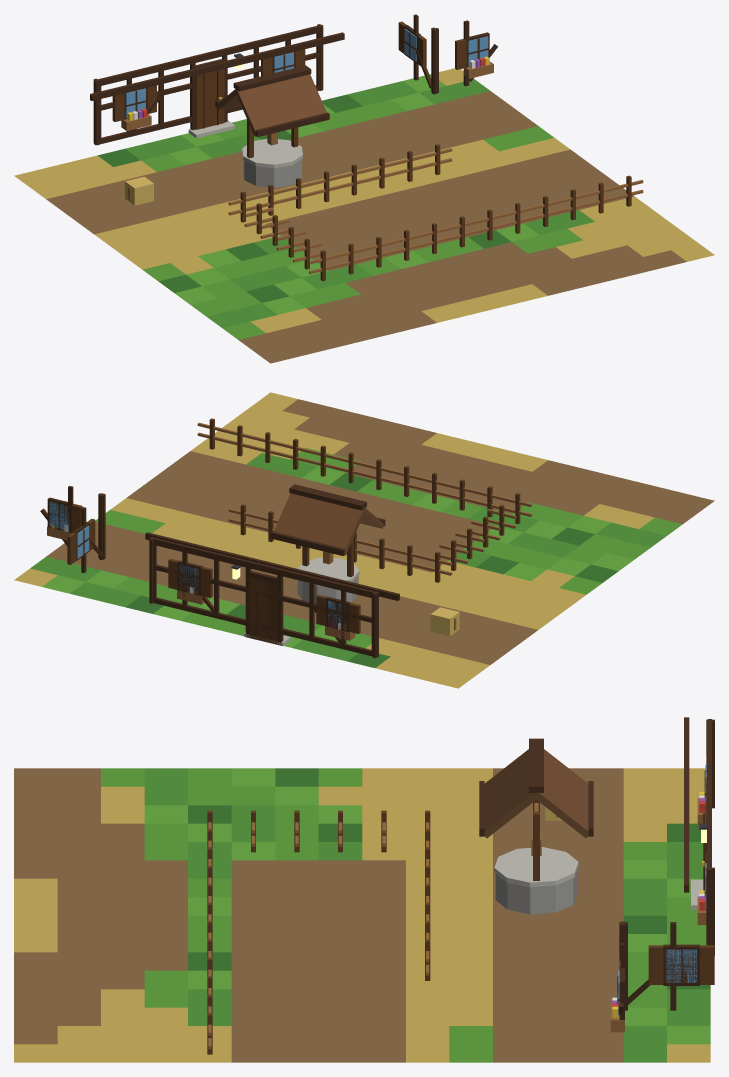
Rendered from chunk_9_10.glb.
3 renders of one model, top to bottom at view 1: azimuth 30°, elevation 25°; view 2: azimuth 150°, elevation 25°; view 3: azimuth 270°, elevation 25°, orthographic. The views are drawn at different scales.
Visible parts, largest first — view 1: chunk_9_10; view 2: chunk_9_10; view 3: chunk_9_10.
Part boxes in pixels (<box>): chunk_9_10: <box>14,14,714,363</box>; chunk_9_10: <box>14,392,714,688</box>; chunk_9_10: <box>14,717,714,1062</box>.
Bounding box in the file's own units: 16.22 × 3.41 × 16.1.
